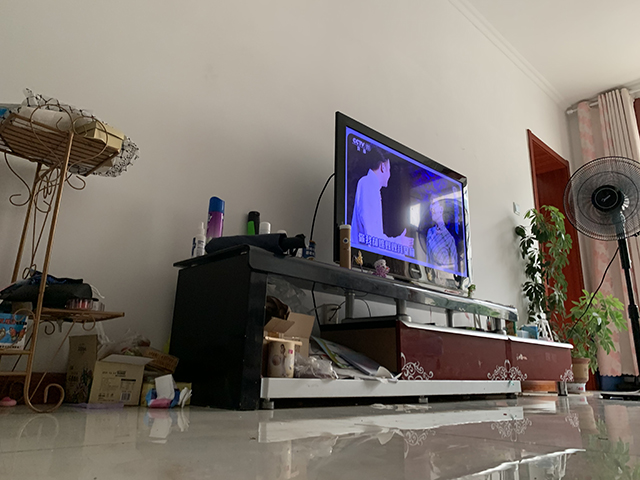cabinet: (166, 243, 576, 413)
curtain: (575, 86, 640, 378)
